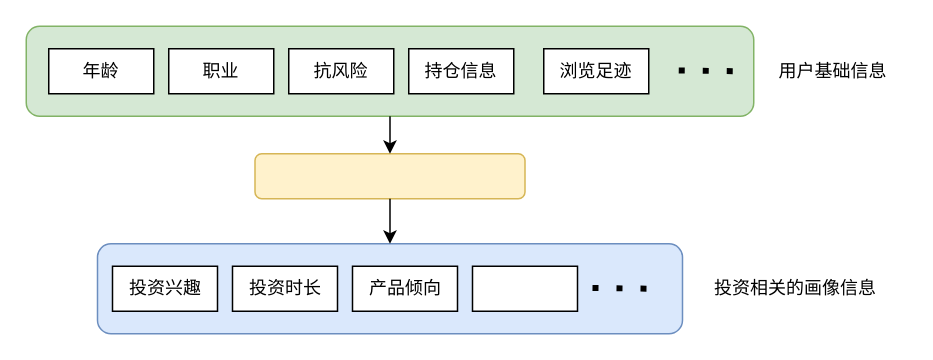
Some shapes in this 933 by 360 pixel diagram are drawn without their labels. Here are the shapes that lost their labels. From the top down, the centre of each, then its label:
point (389, 175): 画像Agent-LLM
point (524, 288): 收益预期
